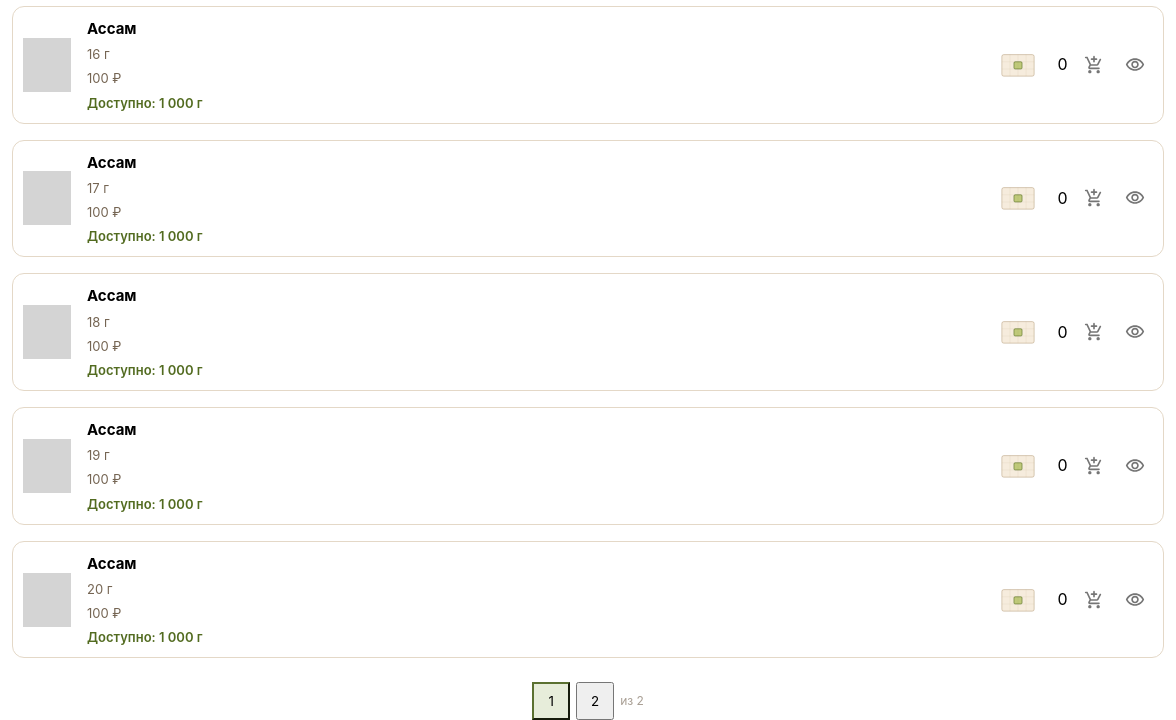
страницы простого каталога › оставляет номера страниц без нижних стрелок
(page scrolled)
Click the button named "Страница 2".
click(595, 701)  # box [576,682,614,719]
(page scrolled)
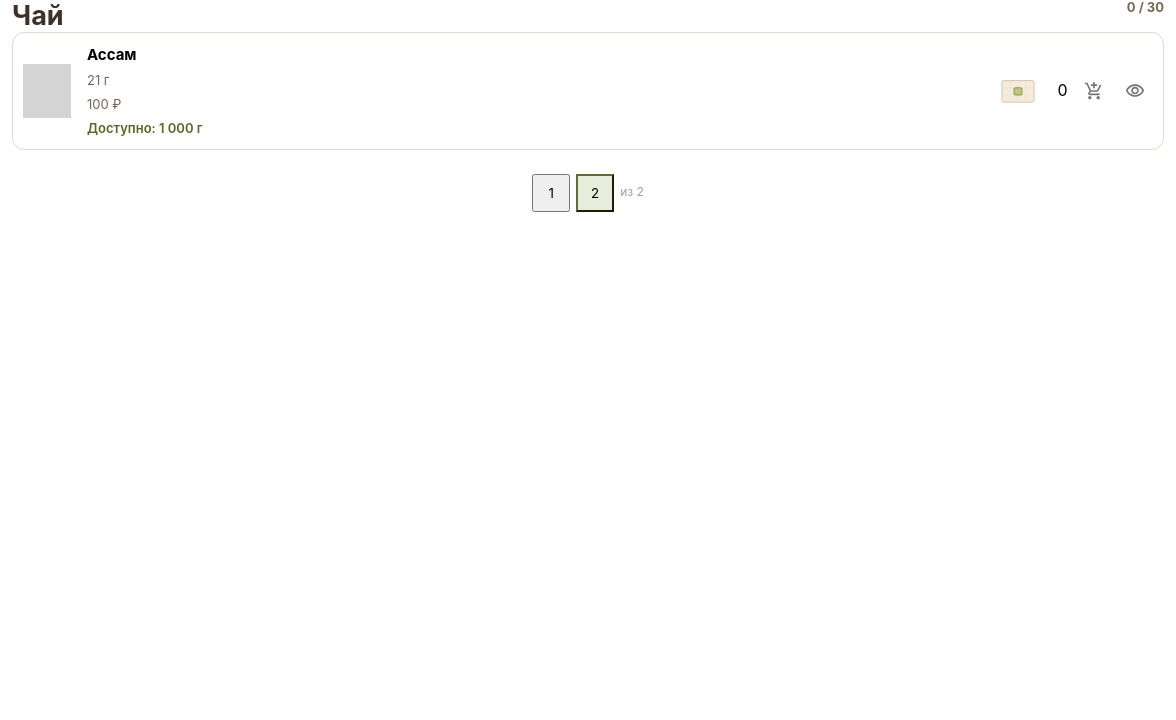
Expected: the text named "Количество Ассам, 21 г" is shown, [1058,80,1068,100]
Expected: the number of list items is 1, [12,32,1164,150]
